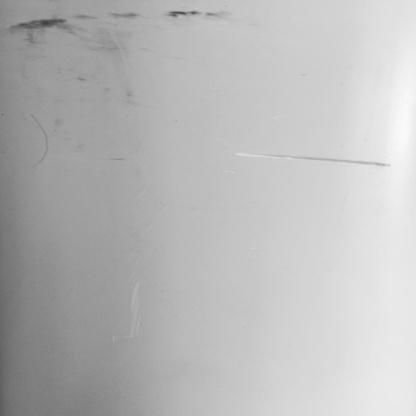sunshang: (236, 147, 393, 169), (28, 107, 49, 171)
